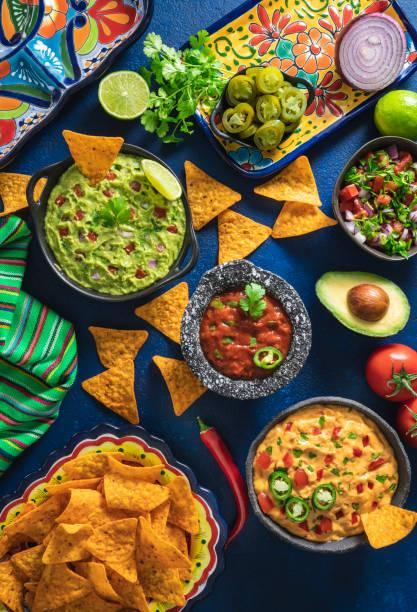Braised Crucian Carp: (0, 421, 228, 609), (26, 142, 196, 301), (244, 395, 409, 552), (179, 260, 311, 401), (332, 136, 414, 260)
